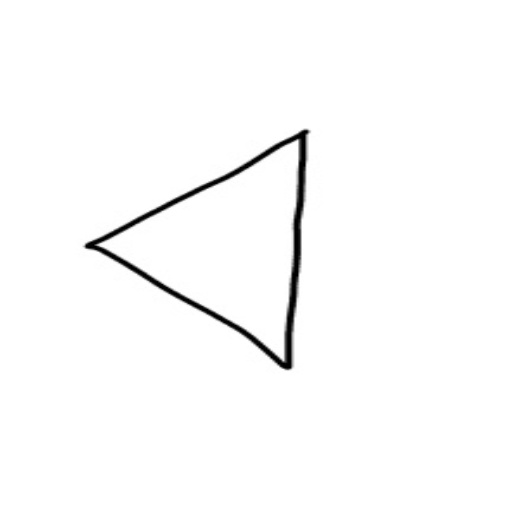triangle: (75, 114, 327, 376)
